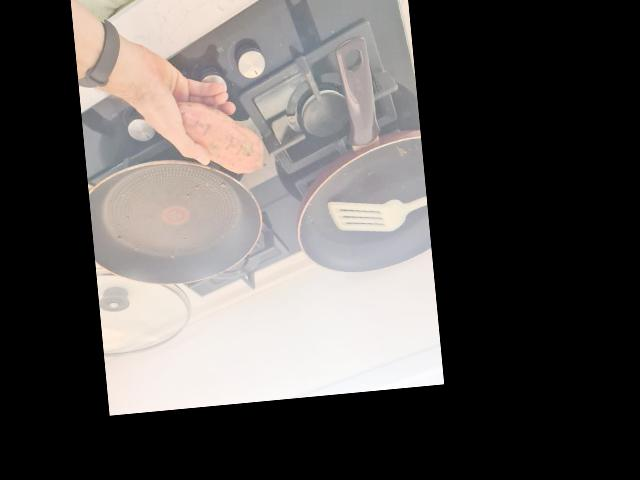sweet_potato: (176, 93, 267, 178)
